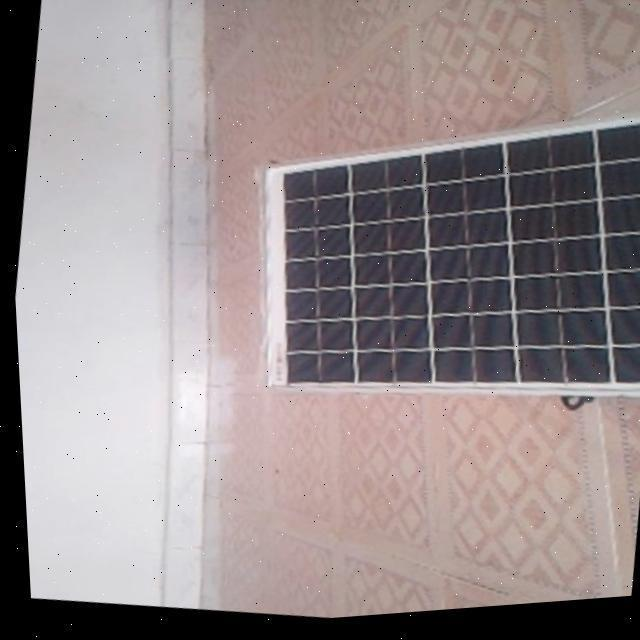Normal Solar Panel: (230, 62, 640, 445)
